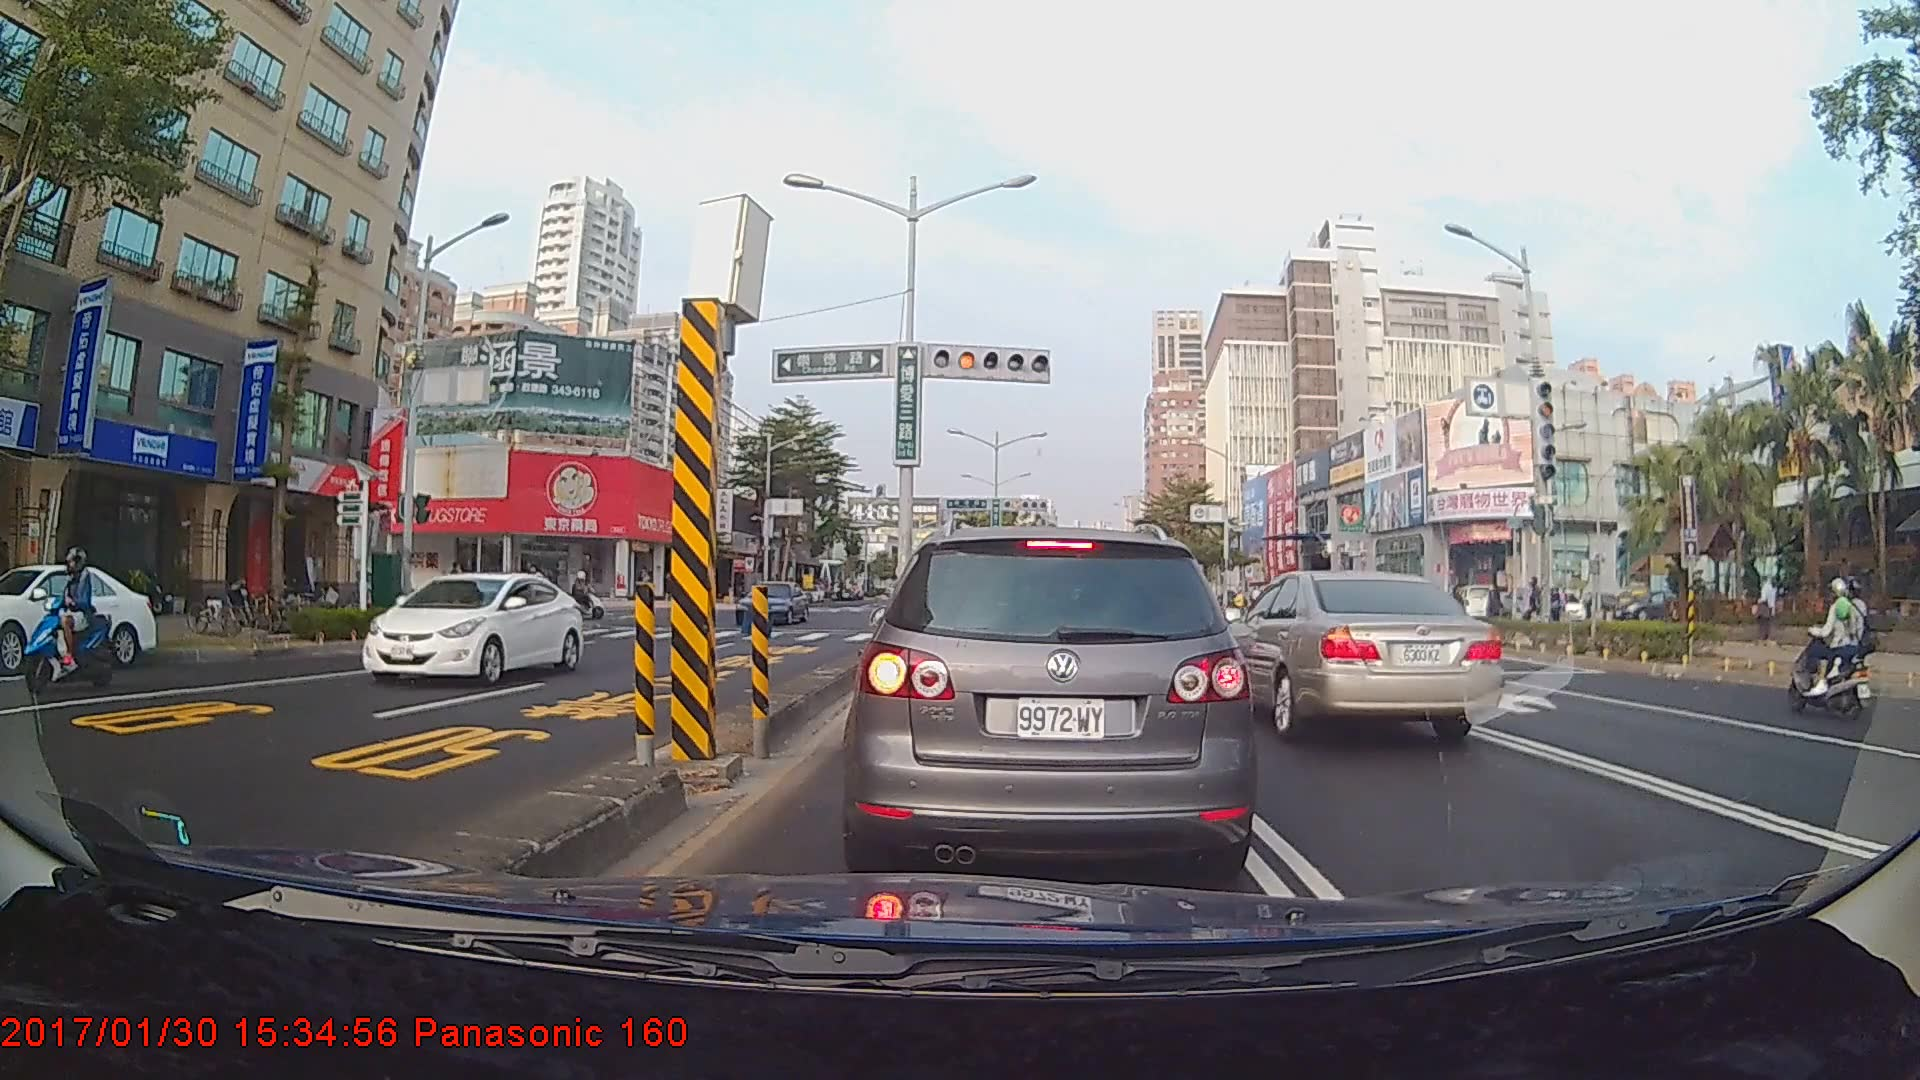pedestrian: (1754, 574, 1780, 646), (1484, 579, 1508, 637), (448, 558, 468, 621)
rider: (20, 549, 118, 693), (1783, 571, 1872, 717)
vehicle: (851, 521, 1249, 882), (1218, 567, 1504, 743), (360, 568, 580, 687), (0, 561, 175, 671), (732, 581, 808, 626)
